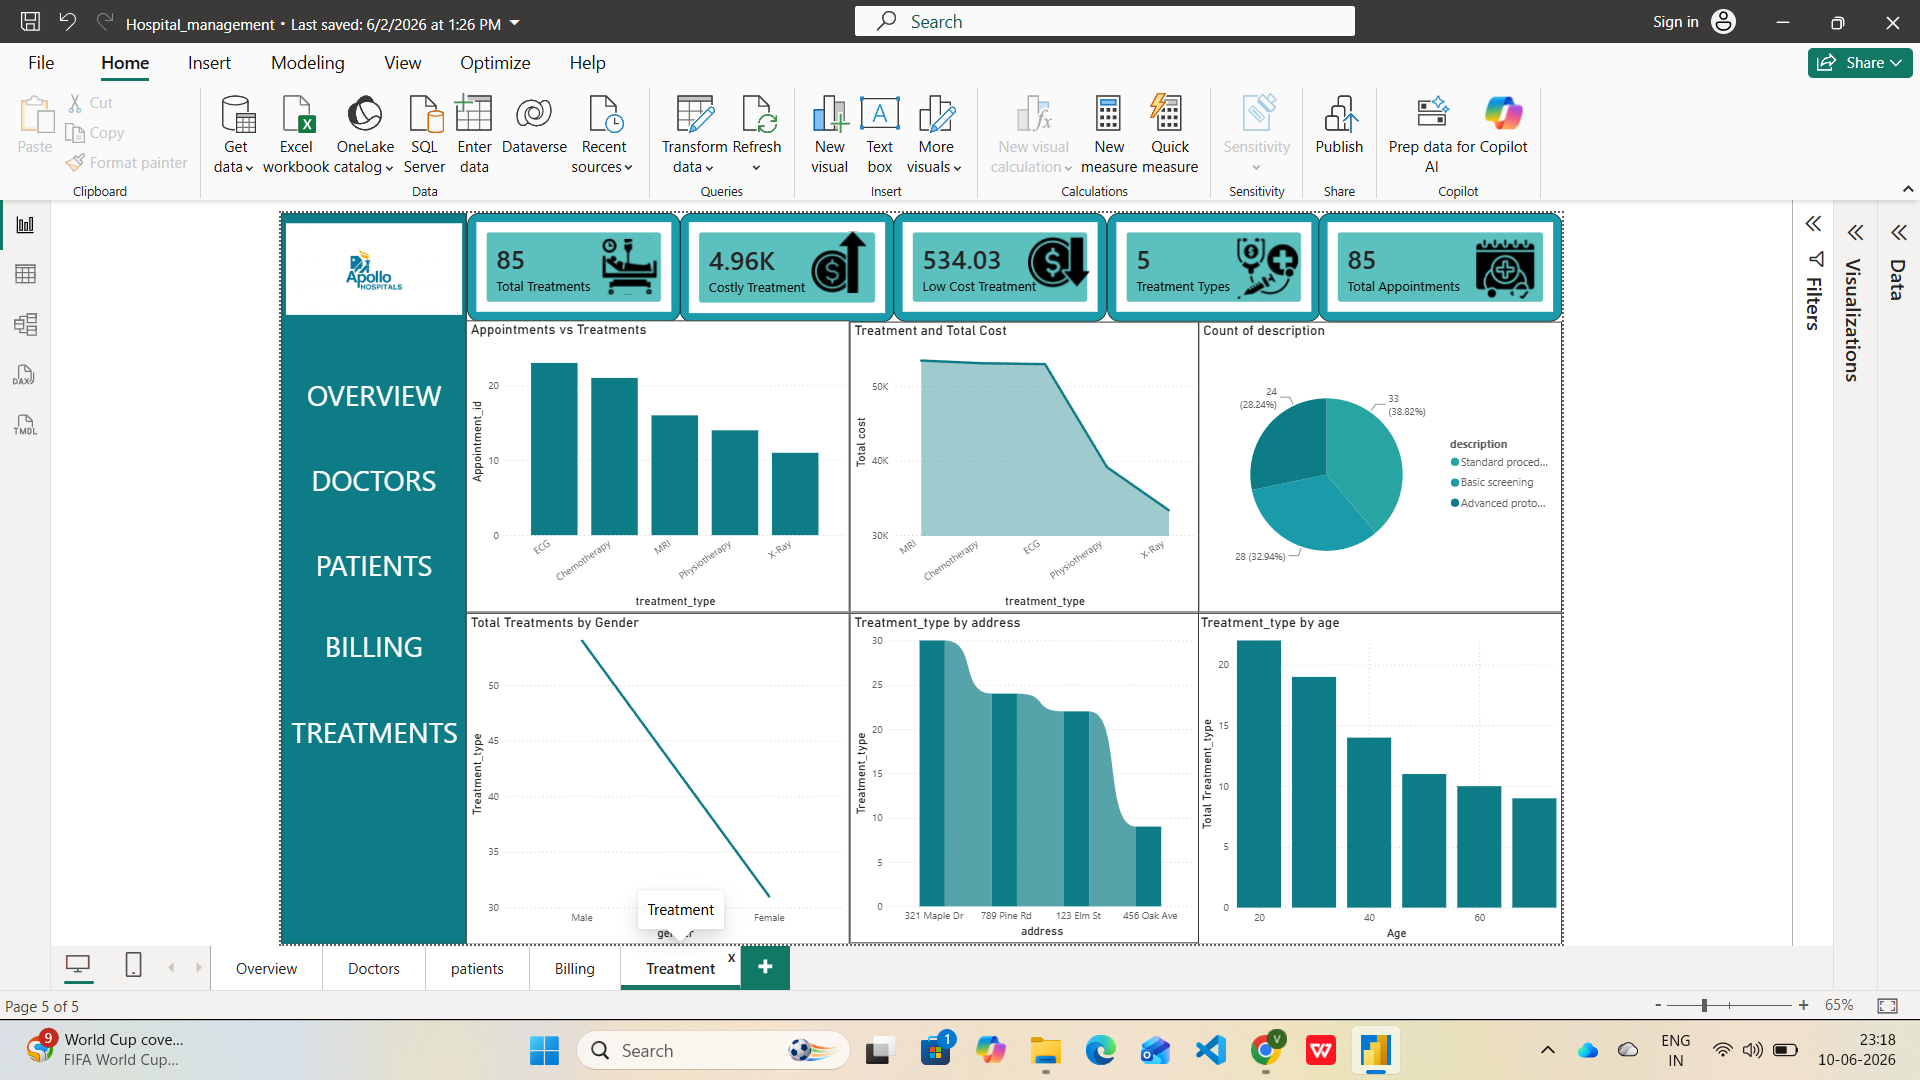

Layout of this report page (visuals, bound fields, positions):
{"tool":"powerbi","page":{"name":"Treatment","canvas":[1577,900],"ordinal":4},"visuals":[{"type":"shape","box":[0,0,229,900.3],"z":0},{"type":"image","box":[6.8,5.1,216.9,128.8],"z":1000},{"type":"actionButton","box":[0,195.3,229.7,51.6],"z":2000},{"type":"actionButton","box":[0,300,229,51],"z":3000},{"type":"actionButton","box":[0,405.1,229,51],"z":4000},{"type":"actionButton","box":[0,505.1,229,51],"z":5000},{"type":"actionButton","box":[0,610.2,230.5,52.5],"z":6000},{"type":"cardVisual","fields":{"Data":["Max(hosp treatments_backup.cost)"]},"box":[490.6,0,264.1,134.4],"z":7000},{"type":"cardVisual","fields":{"Data":["Count(hosp treatments_backup.treatment_id)"]},"box":[228.8,0,262.7,133.9],"z":8000},{"type":"cardVisual","fields":{"Data":["Min(hosp treatments_backup.cost)"]},"box":[754.2,0,262.7,133.9],"z":9000},{"type":"cardVisual","fields":{"Data":["Count(hosp treatments_backup.treatment_type)"]},"box":[1016.9,0,262.7,133.9],"z":10000},{"type":"cardVisual","fields":{"Data":["Count(hosp treatments_backup.appointment_id)"]},"box":[1276.3,0,300,133.9],"z":11000},{"type":"columnChart","title":"Appointments vs Treatments","fields":{"Category":["hosp treatments_backup.treatment_type"],"Y":["CountNonNull(hosp appointments.appointment_id)"]},"box":[228.1,132.8,471.9,359.4],"z":12000},{"type":"stackedAreaChart","title":"Treatment and Total Cost","fields":{"Category":["hosp treatments_backup.treatment_type"],"Y":["Sum(hosp treatments_backup.cost)"]},"box":[700,134.4,429.7,357.8],"z":13000},{"type":"pieChart","title":"Count of description","fields":{"Category":["hosp treatments_backup.description"],"Y":["CountNonNull(hosp treatments_backup.description)"]},"box":[1129.7,134.4,446.9,357.8],"z":14000},{"type":"lineChart","title":"Total Treatments by Gender","fields":{"Category":["hosp patients.gender"],"Y":["CountNonNull(hosp treatments_backup.treatment_type)"]},"box":[228.1,492.2,471.9,407.8],"z":15000},{"type":"columnChart","title":"Treatment_type by age ","fields":{"Category":["hosp patients.age (bins)"],"Y":["CountNonNull(hosp treatments_backup.treatment_type)"]},"box":[1126.6,492.2,450,407.8],"z":16000},{"type":"ribbonChart","title":"Treatment_type by address","fields":{"Category":["hosp patients.address"],"Y":["CountNonNull(hosp treatments_backup.treatment_type)"]},"box":[700,492.2,429.7,406.2],"z":17000},{"type":"actionButton","box":[1464.1,25,84.4,87.5],"z":18000},{"type":"actionButton","box":[390.6,28.1,100,76.6],"z":19000},{"type":"actionButton","box":[1473.4,34.4,12.5,87.5],"z":20000},{"type":"actionButton","box":[645.3,17.2,84.4,87.5],"z":21000},{"type":"actionButton","box":[915.6,17.2,84.4,87.5],"z":22000},{"type":"actionButton","box":[1171.9,25,84.4,87.5],"z":23000},{"type":"slicer","fields":{"Values":["hosp doctors.specialization"]},"box":[6.2,267.2,300,300],"z":23001}]}

Visuals, with their boxes on the page's 1577x900 design canvas (x1, y1, x2, y2). These are canvas units, not pixel positions in the 1920x1080 screenshot, which may show the page scaled, cropped or inside an application window:
shape: detection(0, 0, 229, 900)
image: detection(7, 5, 224, 134)
actionButton: detection(0, 195, 230, 247)
actionButton: detection(0, 300, 229, 351)
actionButton: detection(0, 405, 229, 456)
actionButton: detection(0, 505, 229, 556)
actionButton: detection(0, 610, 230, 663)
cardVisual - Max(hosp treatments_backup.cost): detection(491, 0, 755, 134)
cardVisual - Count(hosp treatments_backup.treatment_id): detection(229, 0, 492, 134)
cardVisual - Min(hosp treatments_backup.cost): detection(754, 0, 1017, 134)
cardVisual - Count(hosp treatments_backup.treatment_type): detection(1017, 0, 1280, 134)
cardVisual - Count(hosp treatments_backup.appointment_id): detection(1276, 0, 1576, 134)
"Appointments vs Treatments" columnChart: detection(228, 133, 700, 492)
"Treatment and Total Cost" stackedAreaChart: detection(700, 134, 1130, 492)
"Count of description" pieChart: detection(1130, 134, 1577, 492)
"Total Treatments by Gender" lineChart: detection(228, 492, 700, 900)
"Treatment_type by age " columnChart: detection(1127, 492, 1577, 900)
"Treatment_type by address" ribbonChart: detection(700, 492, 1130, 898)
actionButton: detection(1464, 25, 1548, 112)
actionButton: detection(391, 28, 491, 105)
actionButton: detection(1473, 34, 1486, 122)
actionButton: detection(645, 17, 730, 105)
actionButton: detection(916, 17, 1000, 105)
actionButton: detection(1172, 25, 1256, 112)
slicer - hosp doctors.specialization: detection(6, 267, 306, 567)
